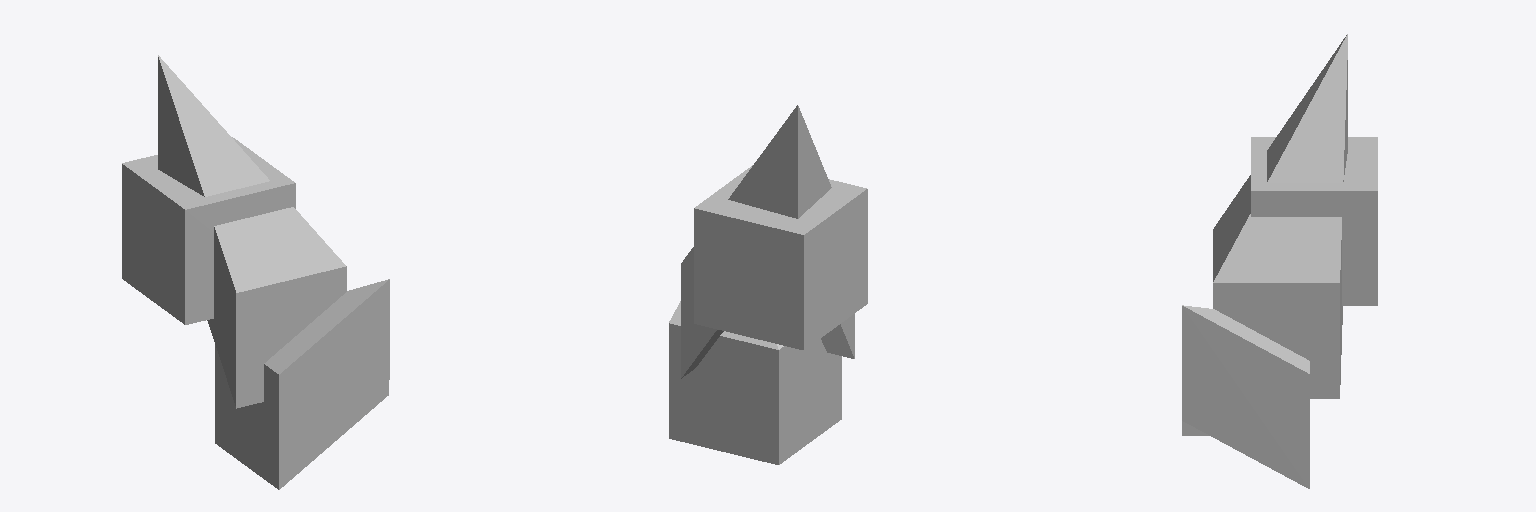
Rendered from prueba.obj.
The picture shows the model from 3 angles: view 1: azimuth 30°, elevation 25°; view 2: azimuth 150°, elevation 25°; view 3: azimuth 270°, elevation 25°; orthographic projection.
Visible parts, largest first — view 1: Cube.001, Cube, Cube.002; view 2: Cube.002, Cube, Cube.001; view 3: Cube.001, Cube, Cube.002.
Boxes of the visible parts, <box> form: Cube.001: <box>158,55,346,408</box>; Cube: <box>215,279,389,489</box>; Cube.002: <box>122,137,295,324</box>; Cube.002: <box>694,165,867,349</box>; Cube: <box>669,301,841,464</box>; Cube.001: <box>681,105,854,378</box>; Cube.001: <box>1213,34,1347,398</box>; Cube: <box>1182,305,1309,488</box>; Cube.002: <box>1251,137,1377,305</box>.
Bounding box in the file's own units: 3.09 × 6.67 × 3.09.